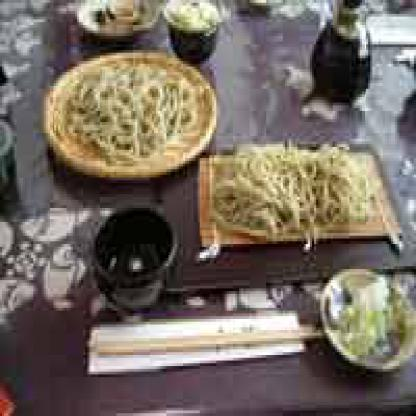memil soba: (212, 144, 368, 239), (64, 58, 192, 161)
